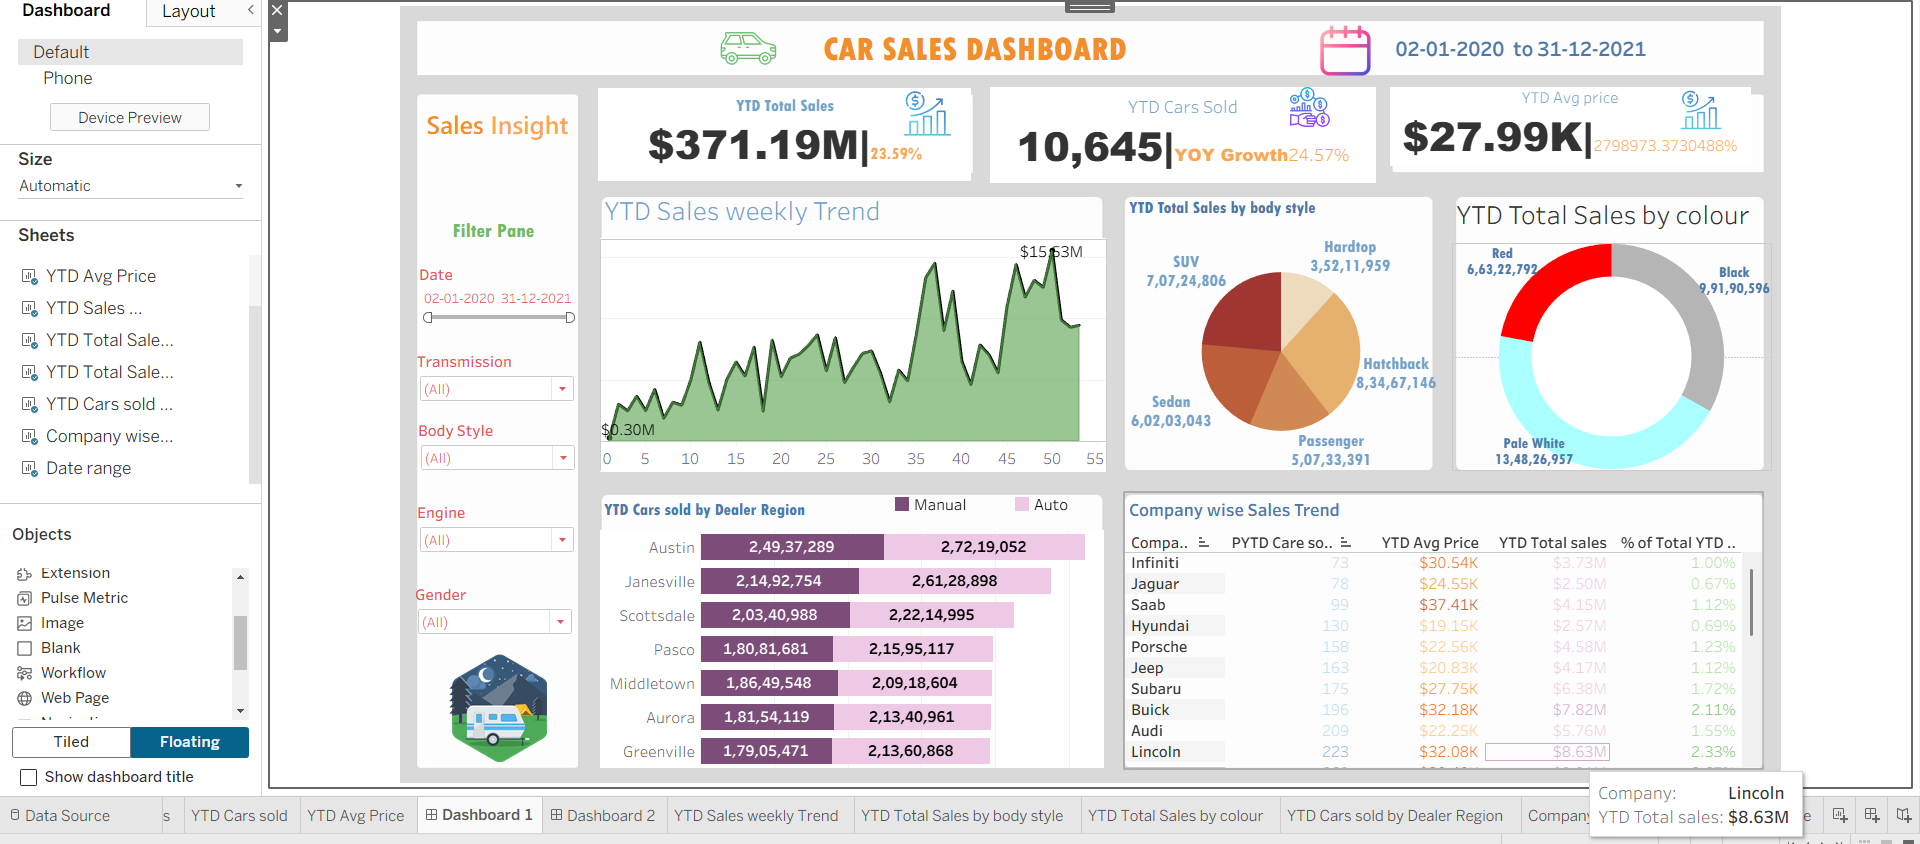

The page's visual inventory and layout, read from the dashboard file:
{"tool":"tableau","page":{"name":"Dashboard 1","canvas":[1000,1000],"units":"permille","ordinal":0},"visuals":[{"type":"image","param":"C:/Users/soham/OneDrive/Desktop/I.T VEDANT/Tableau/car sales project/Car Sales B","box":[4.8,10,990.3,980]},{"type":"image","param":"C:/Users/soham/OneDrive/Desktop/I.T VEDANT/Tableau/car sales project/Car Icon.pn","box":[273.4,26.2,68.2,82.4]},{"type":"worksheet","title":"Date range","mark":"Automatic","box":[613.8,32.5,291.5,71.2]},{"type":"text","box":[277,35,306.6,67.4]},{"type":"image","param":"C:/Users/soham/OneDrive/Desktop/I.T VEDANT/Tableau/car sales project/calendar.pn","box":[557,35,193.7,69.9]},{"type":"image","param":"C:/Users/soham/OneDrive/Desktop/I.T VEDANT/Tableau/car sales project/Cars Sold I","box":[591.4,114.9,82.1,51.2]},{"type":"image","param":"C:/Users/soham/OneDrive/Desktop/I.T VEDANT/Tableau/car sales project/Sales Icon.","box":[375.4,116.1,51.9,64.9]},{"type":"worksheet","title":"YTD Cars sold","mark":"Automatic","box":[439.4,116.1,233,119.9]},{"type":"image","param":"C:/Users/soham/OneDrive/Desktop/I.T VEDANT/Tableau/car sales project/Sales Icon.","box":[822.6,116.1,91.1,56.2]},{"type":"worksheet","title":"YTD Total sales","mark":"Automatic","box":[202.8,117.4,225.1,116.1]},{"type":"text","box":[95.4,129.8,93.5,64.9]},{"type":"worksheet","title":"YTD Sales weekly Trend","mark":"Area","rows":["Calculation_2232096590627241984","Calculation_2232096590627241984"],"cols":["Date"],"box":[204,243.5,306,353.3]},{"type":"worksheet","title":"YTD Total Sales by colour","mark":"Pie","rows":["Calculation_2232096590957580301","Calculation_2232096590957633551"],"box":[718.2,248.4,193.1,347.1]},{"type":"worksheet","title":"YTD Total Sales by body style","mark":"Pie","box":[520.8,249.7,188.3,350.8]},{"type":"text","box":[92.9,263.4,93.5,64.9]},{"type":"filter","title":"YTD Sales weekly Trend","param":"[federated.0xfpe8l1uggqk115iffrb0hvbyod].[none:Date:qk]","box":[94.8,337.1,96.6,81.2]},{"type":"filter","title":"YTD Sales weekly Trend","param":"[federated.0xfpe8l1uggqk115iffrb0hvbyod].[none:Transmission:nk]","box":[93.5,445.7,96.6,121.1]},{"type":"filter","title":"YTD Sales weekly Trend","param":"[federated.0xfpe8l1uggqk115iffrb0hvbyod].[none:Body Style:nk]","box":[94.2,531.8,96.6,207.2]},{"type":"worksheet","title":"Company wise Sales Trend","mark":"Automatic","rows":["Company"],"box":[520.8,623,384.4,343.3]},{"type":"legend","title":"YTD Cars sold by Dealer Region","param":"[federated.0xfpe8l1uggqk115iffrb0hvbyod].[none:Transmission:nk]","box":[380.2,624.2,150.3,49.9]},{"type":"worksheet","title":"YTD Cars sold by Dealer Region","mark":"Automatic","rows":["Dealer_Region"],"cols":["YTD Total sales (copy)_2232096590629380100"],"box":[204,626.7,304.2,339.6]},{"type":"filter","title":"YTD Sales weekly Trend","param":"[federated.0xfpe8l1uggqk115iffrb0hvbyod].[none:Engine:nk]","box":[93.5,634.2,96.6,121.1]},{"type":"filter","title":"YTD Sales weekly Trend","param":"[federated.0xfpe8l1uggqk115iffrb0hvbyod].[none:Gender:nk]","box":[92.3,736.6,96.6,121.1]},{"type":"image","param":"C:/Users/soham/OneDrive/Desktop/I.T VEDANT/Tableau/car sales project/moon.png","box":[92.9,824,99,134.8]}]}

Visuals, with their boxes on the dashboard's canvas, which has no fixed pixel size, in thousandths of its width and height (x1, y1, x2, y2). These are canvas units, not pixel positions in the 1920x844 screenshot, which may show the page scaled, cropped or inside an application window:
image: [5,10,995,990]
image: [273,26,342,109]
"Date range" worksheet: [614,32,905,104]
text: [277,35,584,102]
image: [557,35,751,105]
image: [591,115,674,166]
image: [375,116,427,181]
"YTD Cars sold" worksheet: [439,116,672,236]
image: [823,116,914,172]
"YTD Total sales" worksheet: [203,117,428,234]
text: [95,130,189,195]
"YTD Sales weekly Trend" worksheet (Area marks): [204,244,510,597]
"YTD Total Sales by colour" worksheet (Pie marks): [718,248,911,596]
"YTD Total Sales by body style" worksheet (Pie marks): [521,250,709,600]
text: [93,263,186,328]
"YTD Sales weekly Trend" filter: [95,337,191,418]
"YTD Sales weekly Trend" filter: [94,446,190,567]
"YTD Sales weekly Trend" filter: [94,532,191,739]
"Company wise Sales Trend" worksheet: [521,623,905,966]
"YTD Cars sold by Dealer Region" legend: [380,624,530,674]
"YTD Cars sold by Dealer Region" worksheet: [204,627,508,966]
"YTD Sales weekly Trend" filter: [94,634,190,755]
"YTD Sales weekly Trend" filter: [92,737,189,858]
image: [93,824,192,959]
